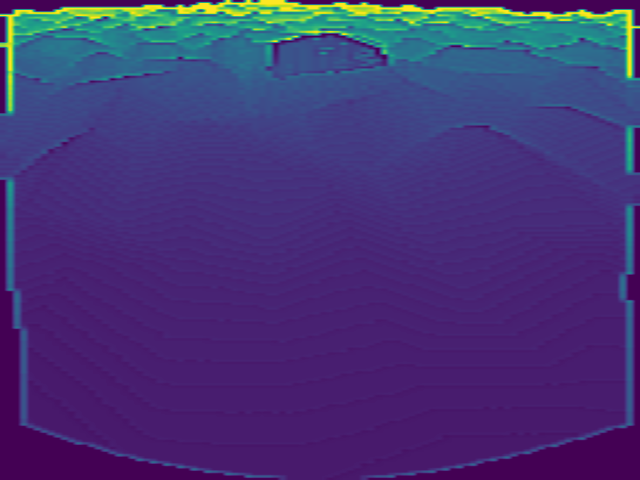car_0198: (265, 30, 390, 79)
